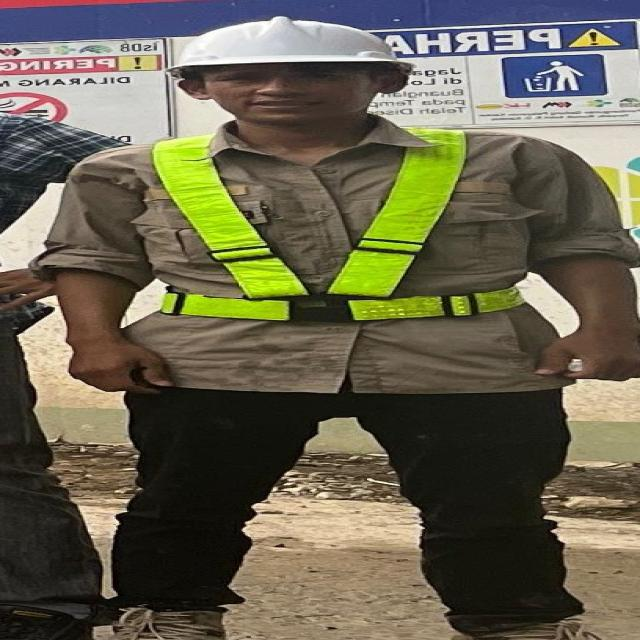safetyhelmet: (164, 13, 423, 128)
